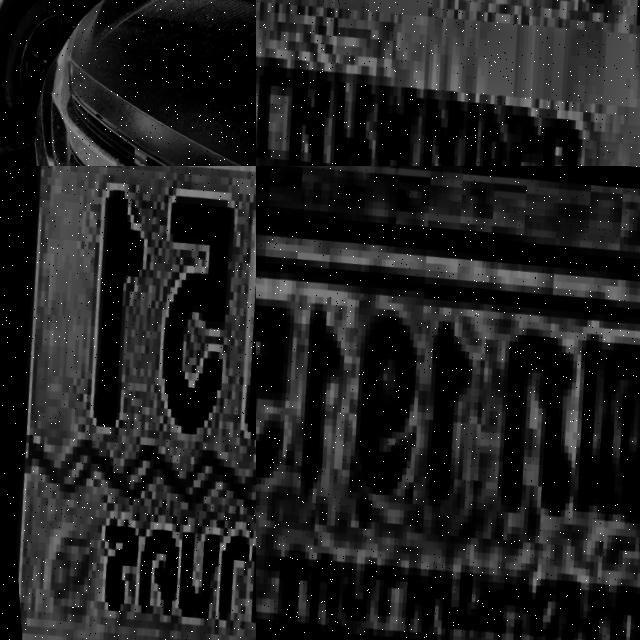license-plate: (256, 198, 640, 640), (0, 166, 256, 640), (256, 0, 640, 166)
